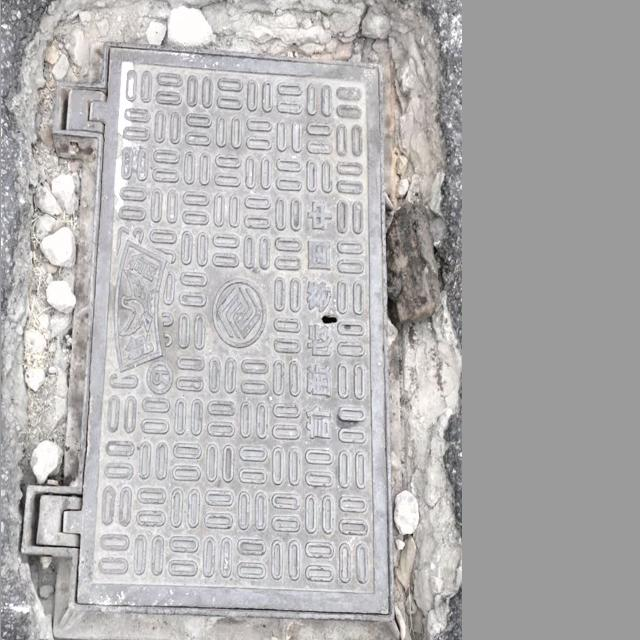circle: (15, 0, 439, 640)
